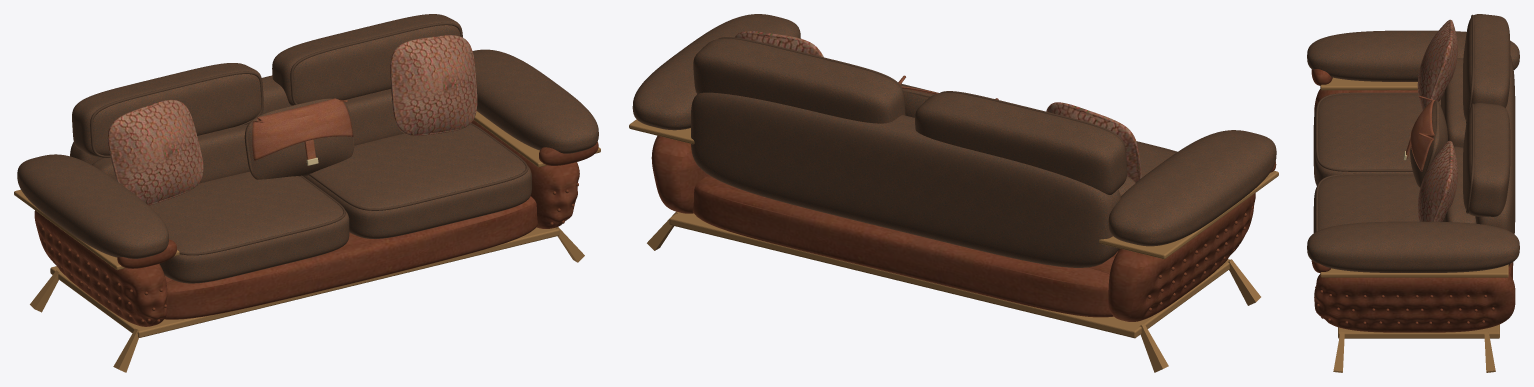
The model's file is noval-sofa3-v2.glb.
3 renders of one model, left to right at view 1: azimuth 30°, elevation 25°; view 2: azimuth 150°, elevation 25°; view 3: azimuth 270°, elevation 25°, orthographic. The views are drawn at different scales.
Visible parts, largest first — view 1: seat1, seat-1, base, armpad-1, back1, back-1, armpad1, pillow1, pillow-1, arm-1, flap, pillowmid (+15 smaller); view 2: backframe, base, armpad-1, back-1, back1, arm-1, armpad1, rail, arm1, pillow-1, armwood-1, pillow1 (+4 smaller); view 3: arm1, armpad1, seat-1, armpad-1, seat1, back1, back-1, pillow1, pillow-1, backframe, lumbar-1, rail (+13 smaller).
Boxes of the visible parts, bbox=[...] form: seat1: bbox=[304, 124, 531, 238]; seat-1: bbox=[149, 171, 349, 283]; base: bbox=[164, 196, 537, 319]; armpad-1: bbox=[17, 154, 168, 258]; back1: bbox=[272, 14, 462, 105]; back-1: bbox=[72, 63, 263, 156]; armpad1: bbox=[472, 49, 598, 153]; pillow1: bbox=[390, 35, 477, 135]; pillow-1: bbox=[107, 99, 203, 205]; arm-1: bbox=[34, 210, 167, 326]; flap: bbox=[252, 98, 353, 160]; pillowmid: bbox=[244, 98, 354, 179]; backframe: bbox=[691, 92, 1120, 267]; base: bbox=[692, 175, 1117, 317]; armpad-1: bbox=[1108, 130, 1276, 246]; back-1: bbox=[915, 92, 1127, 194]; back1: bbox=[693, 38, 905, 123]; arm-1: bbox=[1108, 193, 1255, 321]; armpad1: bbox=[632, 14, 800, 130]; rail: bbox=[669, 212, 1229, 338]; arm1: bbox=[651, 135, 708, 213]; pillow-1: bbox=[1046, 102, 1141, 182]; armwood-1: bbox=[1099, 170, 1278, 259]; pillow1: bbox=[735, 31, 823, 57]; arm1: bbox=[1314, 274, 1515, 332]; armpad1: bbox=[1307, 221, 1519, 272]; seat-1: bbox=[1313, 93, 1440, 185]; armpad-1: bbox=[1307, 30, 1519, 81]; seat1: bbox=[1313, 174, 1420, 232]; back1: bbox=[1463, 103, 1510, 216]; back-1: bbox=[1463, 14, 1510, 121]; pillow1: bbox=[1417, 141, 1457, 221]; pillow-1: bbox=[1417, 19, 1457, 110]; backframe: bbox=[1475, 55, 1515, 266]; lumbar-1: bbox=[1440, 58, 1466, 147]; rail: bbox=[1338, 324, 1499, 338].
Bounding box in the file's own units: 2.38 × 0.9114 × 0.96.
7 materials, 5 textured.
